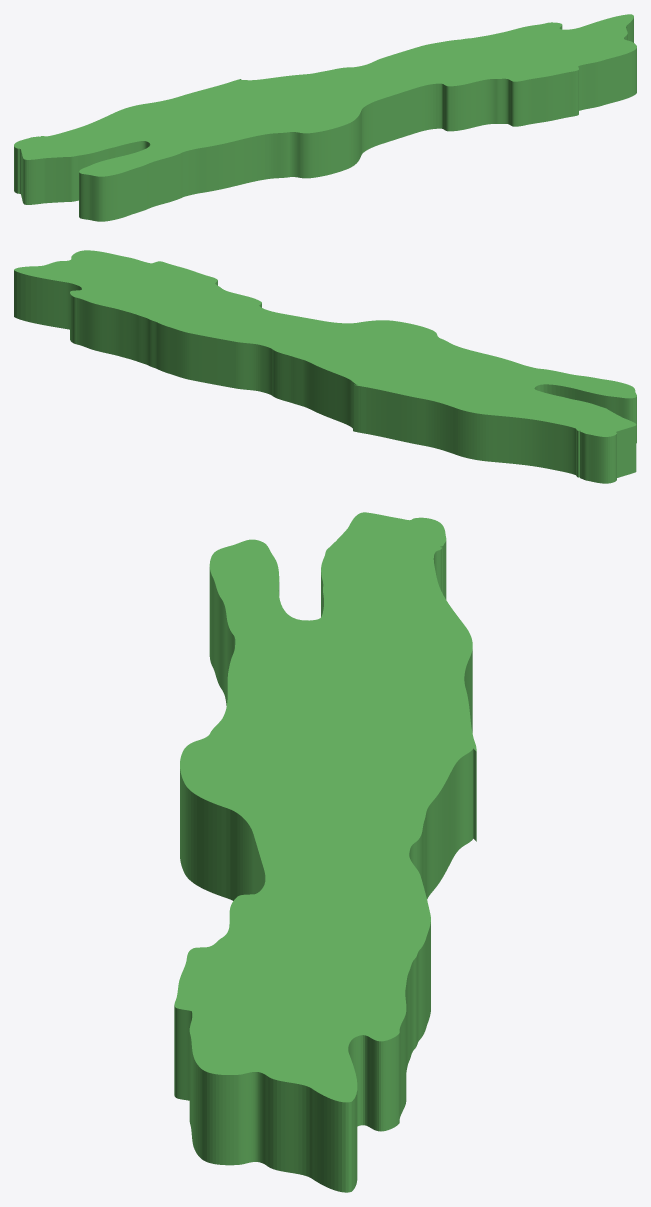
The model's file is pulau-jawa.fbx.
The picture shows the model from 3 angles, top to bottom: view 1: azimuth 30°, elevation 25°; view 2: azimuth 150°, elevation 25°; view 3: azimuth 270°, elevation 25°; orthographic projection. The views are drawn at different scales.
Visible parts, largest first — view 1: Curve; view 2: Curve; view 3: Curve.
Boxes of the visible parts, left/top/right/bottom form: Curve: left=14, top=14, right=636, bottom=221; Curve: left=14, top=250, right=636, bottom=483; Curve: left=174, top=512, right=476, bottom=1192.
Size of the model in its own units: 66.82 by 4.76 by 14.46.
